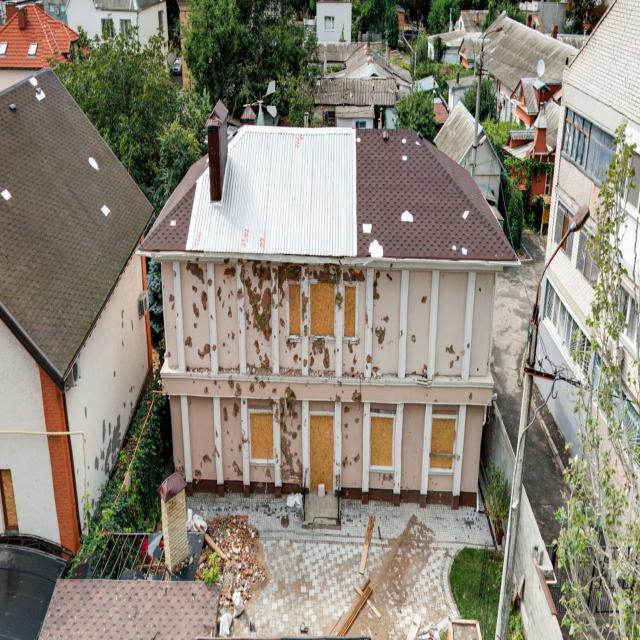broken_window: (429, 412, 456, 474), (369, 411, 394, 472), (249, 408, 274, 463)
building: (137, 99, 521, 512), (0, 62, 156, 563)
roof: (136, 115, 521, 268), (37, 576, 221, 638)
